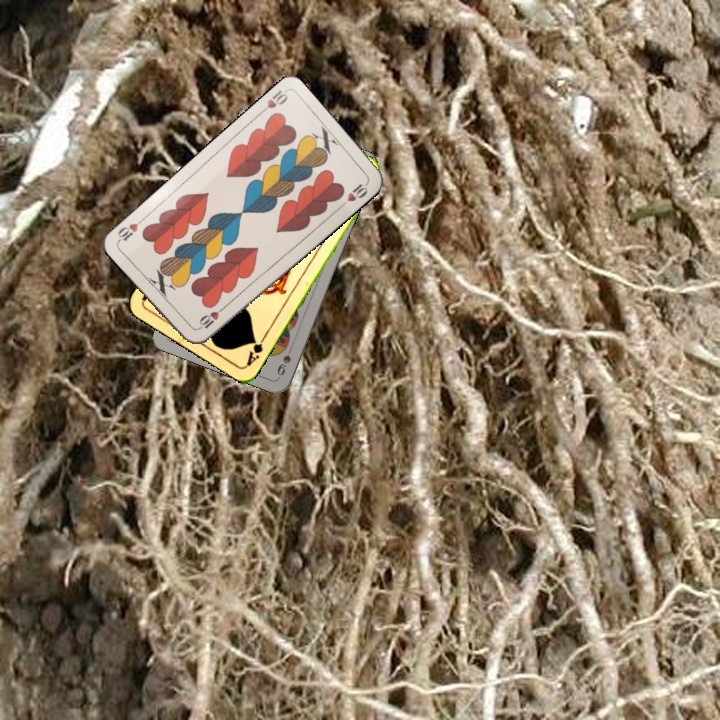GA: (242, 331, 269, 368)
H10: (255, 86, 290, 117), (194, 302, 228, 333)
S9: (273, 340, 296, 378)
